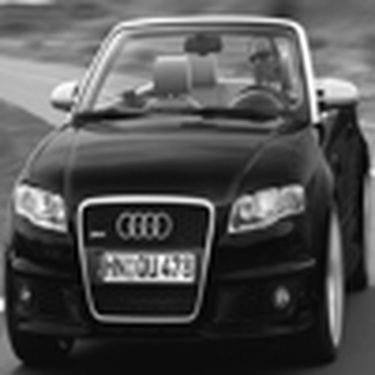car: (8, 10, 361, 358)
